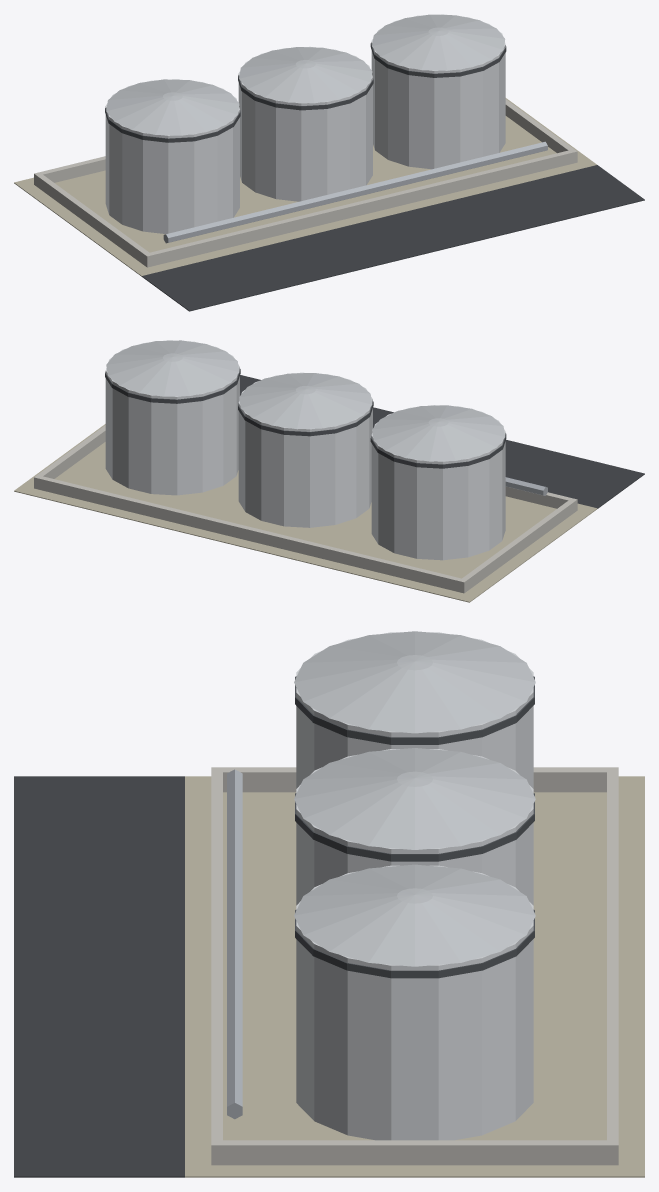
Rendered from site_tanks.glb.
3 renders of one model, top to bottom at view 1: azimuth 30°, elevation 25°; view 2: azimuth 150°, elevation 25°; view 3: azimuth 270°, elevation 25°, orthographic. The views are drawn at different scales.
Visible parts, largest first — view 1: site_tanks; view 2: site_tanks; view 3: site_tanks.
Part boxes in pixels (x1=…): site_tanks: x1=14, y1=14, x2=644, y2=311; site_tanks: x1=14, y1=340, x2=644, y2=602; site_tanks: x1=14, y1=631, x2=644, y2=1177.
Bounding box in the file's own units: 36 × 8.37 × 24.
